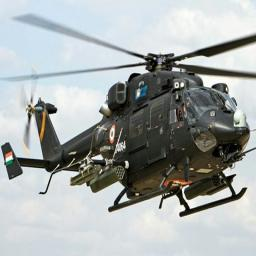helicopter: (2, 14, 256, 217)
